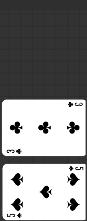3C: (5, 148, 23, 156)
